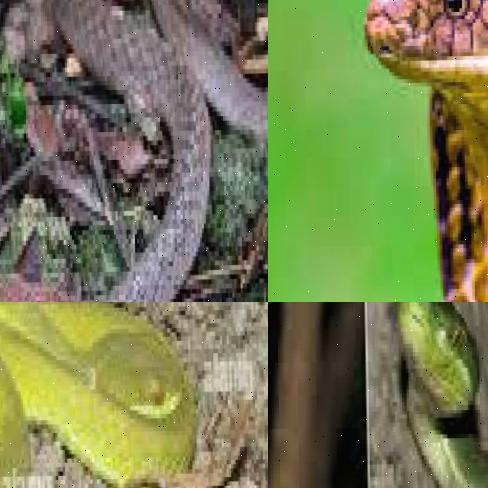snake: (0, 0, 268, 302), (360, 0, 488, 302), (0, 302, 204, 488), (268, 302, 339, 488)
